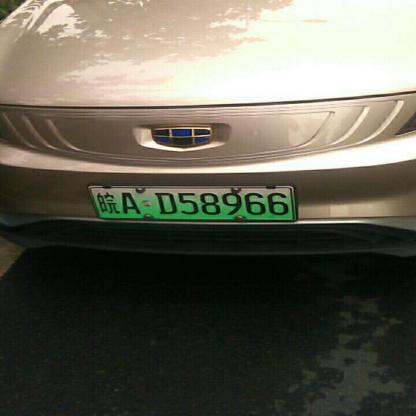lp: (91, 187, 293, 219)
